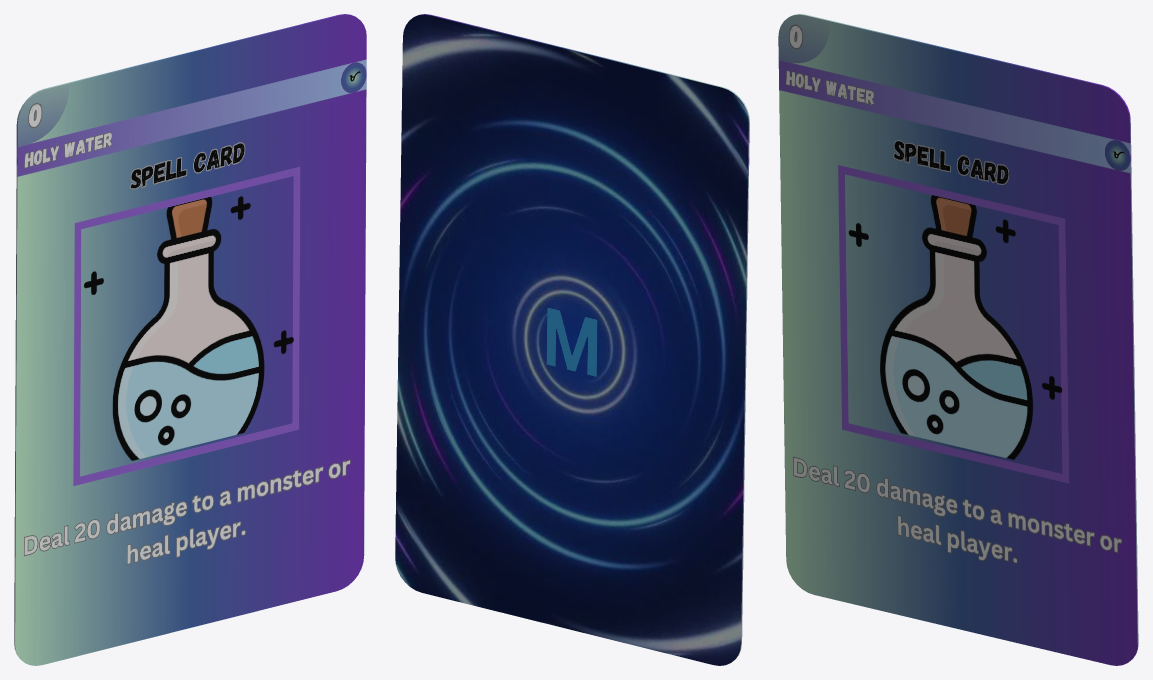
Rendered from Holy Water.glb.
3 views of the same model, side by side, from view 1: azimuth 30°, elevation 25°; view 2: azimuth 150°, elevation 25°; view 3: azimuth 330°, elevation 25° (orthographic).
Visible parts, largest first — view 1: Card; view 2: Card; view 3: Card.
Part boxes in pixels (x1,y1,x2,y2): Card: [14, 14, 366, 665]; Card: [395, 14, 749, 665]; Card: [778, 14, 1138, 665].
Bounding box in the file's own units: 0.0564 × 0.0891 × 0.00197.
Materials: 2 (2 with a texture image).
